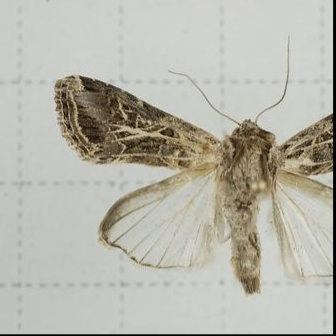Spodoptera litura: (53, 34, 332, 297)
